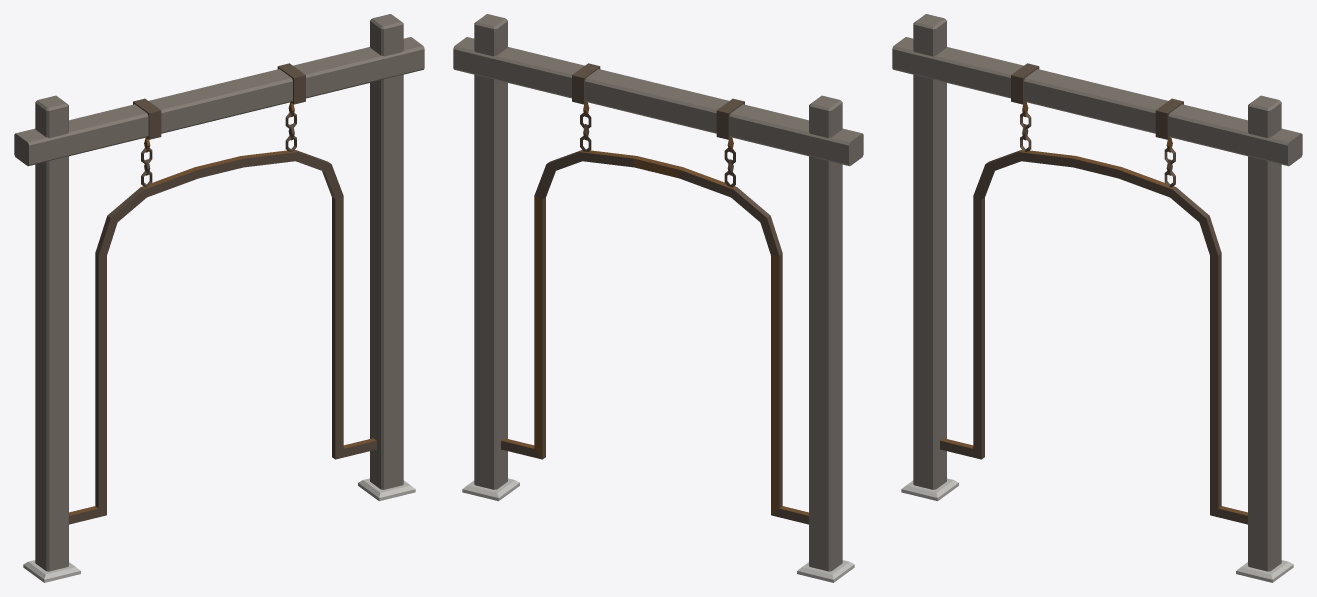
Rendered from loading-gauge-bde2e7.glb.
3 renders of one model, left to right at view 1: azimuth 30°, elevation 25°; view 2: azimuth 150°, elevation 25°; view 3: azimuth 330°, elevation 25°, orthographic.
Parts seen in each view (by area): view 1: loading-gauge-frame, gauge-iron; view 2: loading-gauge-frame, gauge-iron; view 3: loading-gauge-frame, gauge-iron.
Boxes of the visible parts, box(x1,y1,x2,y2) form: loading-gauge-frame: box(14, 14, 424, 582); gauge-iron: box(69, 102, 376, 524); loading-gauge-frame: box(453, 14, 863, 582); gauge-iron: box(501, 102, 808, 524); loading-gauge-frame: box(892, 14, 1302, 582); gauge-iron: box(940, 102, 1247, 524).
Bounding box in the file's own units: 5.2 × 5.89 × 0.48.
